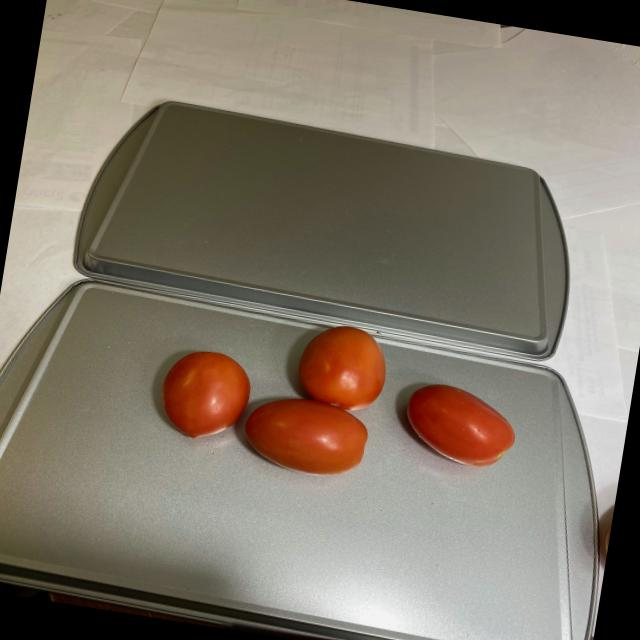tomato: (147, 300, 531, 506)
